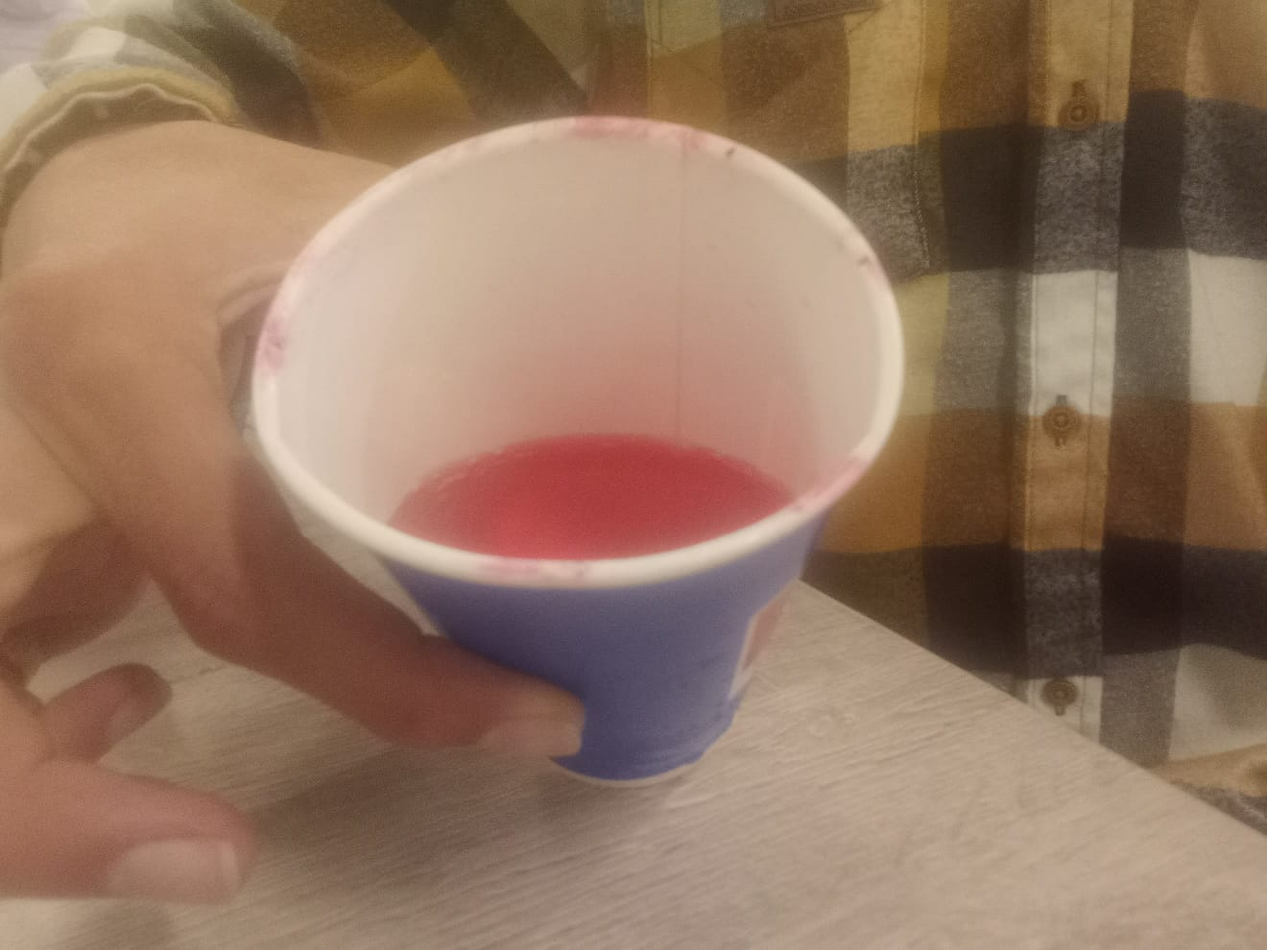Carton: (252, 113, 908, 788)
